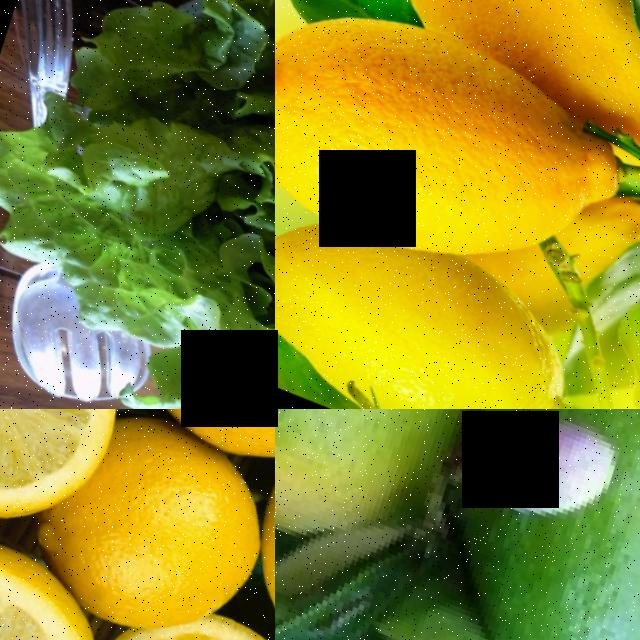lemon: (275, 0, 585, 293), (275, 184, 574, 409), (371, 409, 640, 640), (275, 409, 595, 586), (30, 409, 275, 640), (369, 0, 640, 103), (0, 409, 127, 539), (78, 409, 275, 485), (0, 519, 119, 640)
lettuce: (69, 0, 275, 409)
